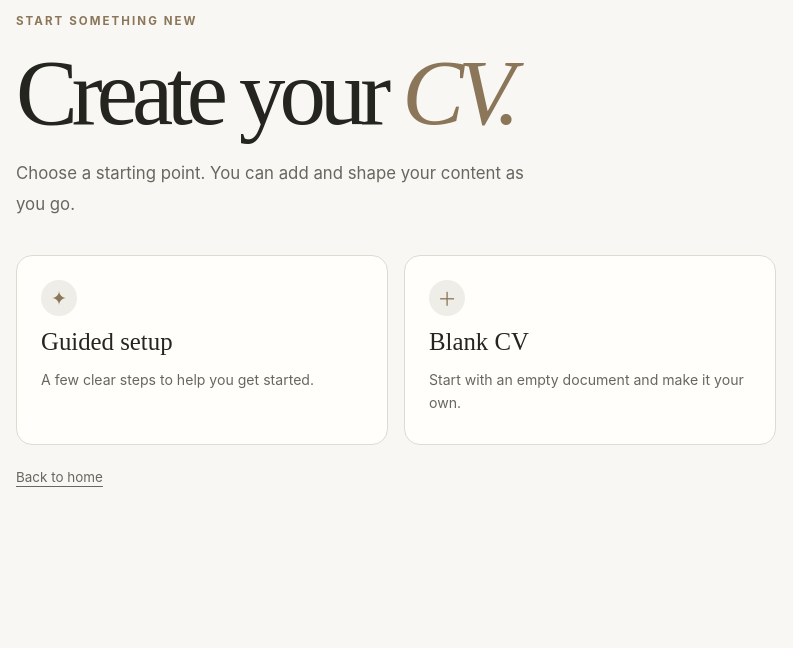
Scenario: NewCVPage › rejects a blank title accessibly and does not create or navigate
Click the button "Blank CV".
click(447, 298)  # box [404,255,776,445]
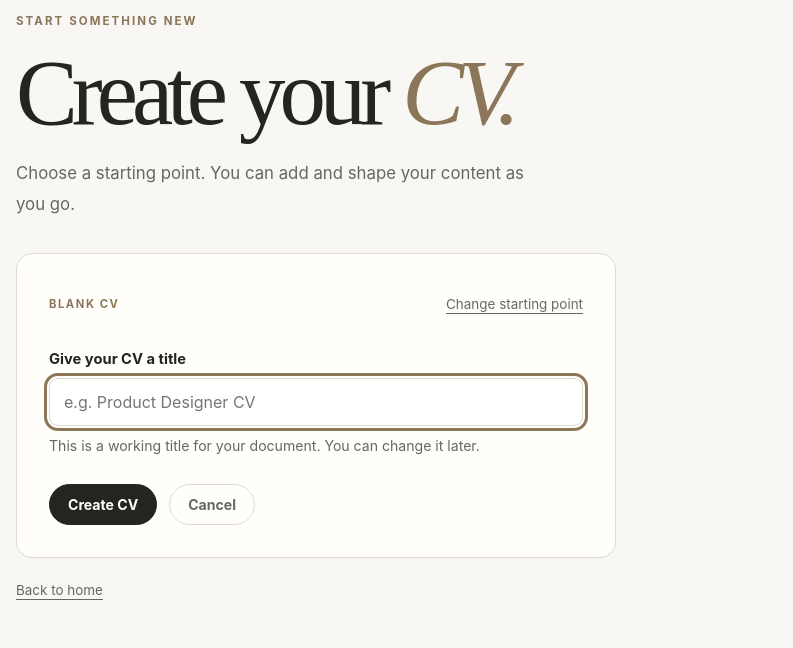
Click the button "Create CV".
click(103, 504)  # box [49,484,157,524]
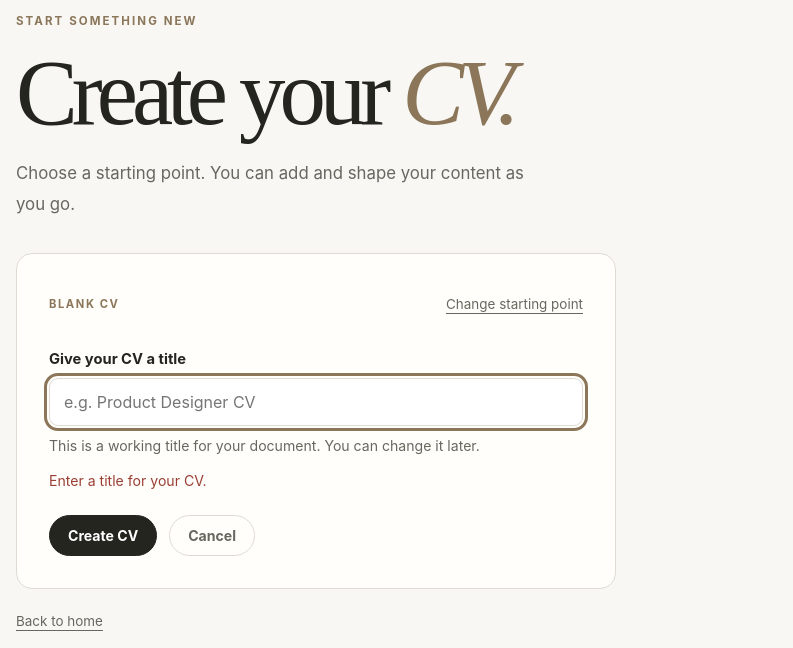
Expected: the message reads "Enter a title for your CV.", [49,472,207,488]
